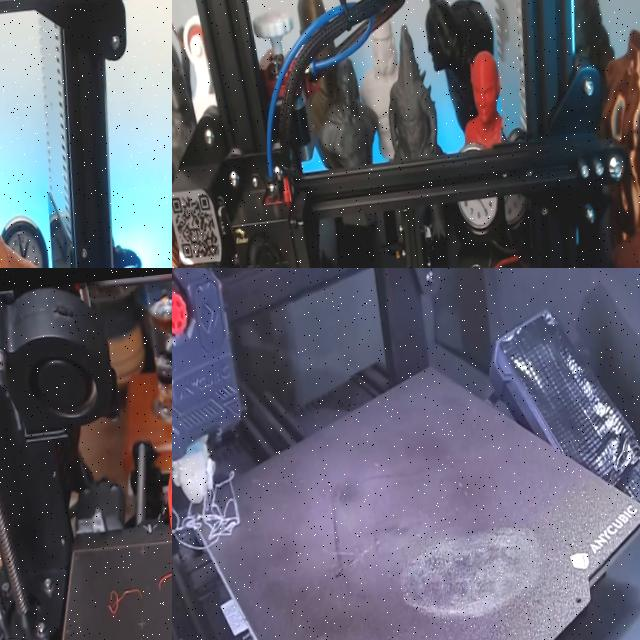spaghetti: (172, 474, 265, 574), (105, 584, 142, 621)
